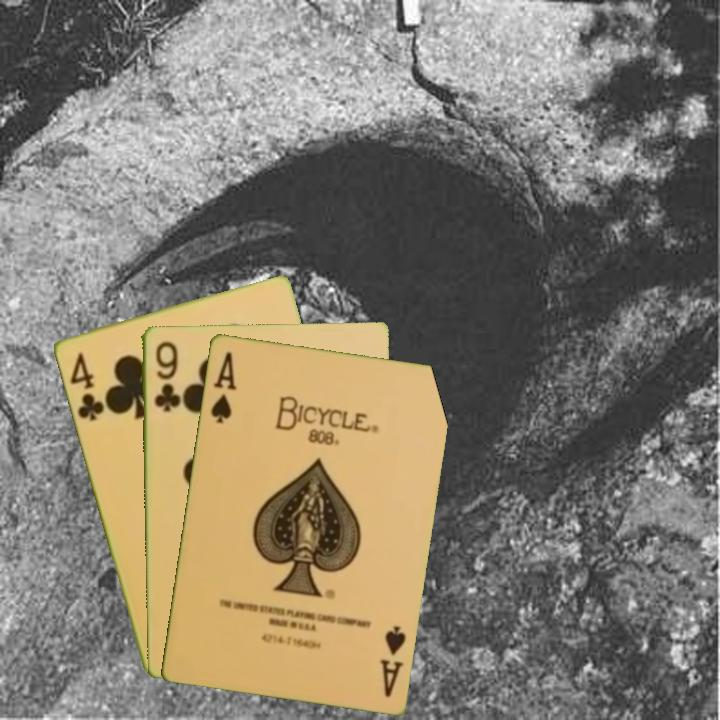4c: (66, 348, 107, 423)
9c: (150, 337, 180, 415)
As: (206, 347, 240, 426), (376, 621, 409, 699)
